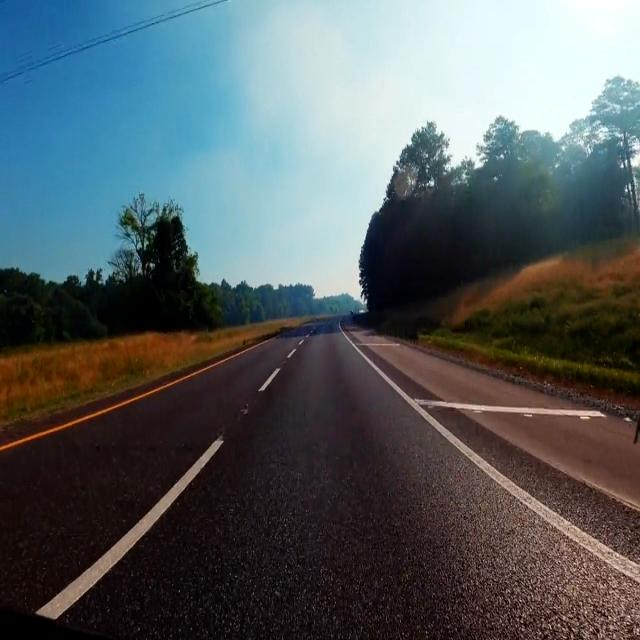lane: (362, 356, 640, 583), (38, 438, 224, 619), (0, 341, 269, 452), (38, 547, 120, 618), (416, 400, 605, 417), (288, 349, 296, 357)
road: (0, 332, 640, 636), (436, 411, 640, 564)
